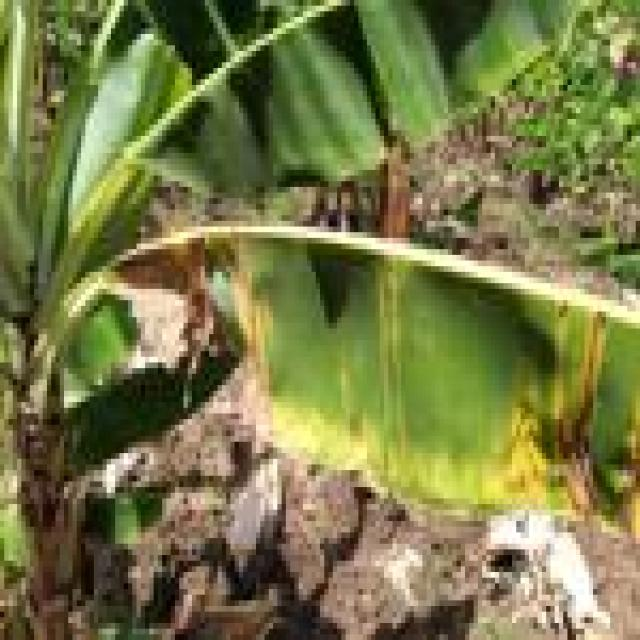Early_rust: (54, 178, 640, 532)
